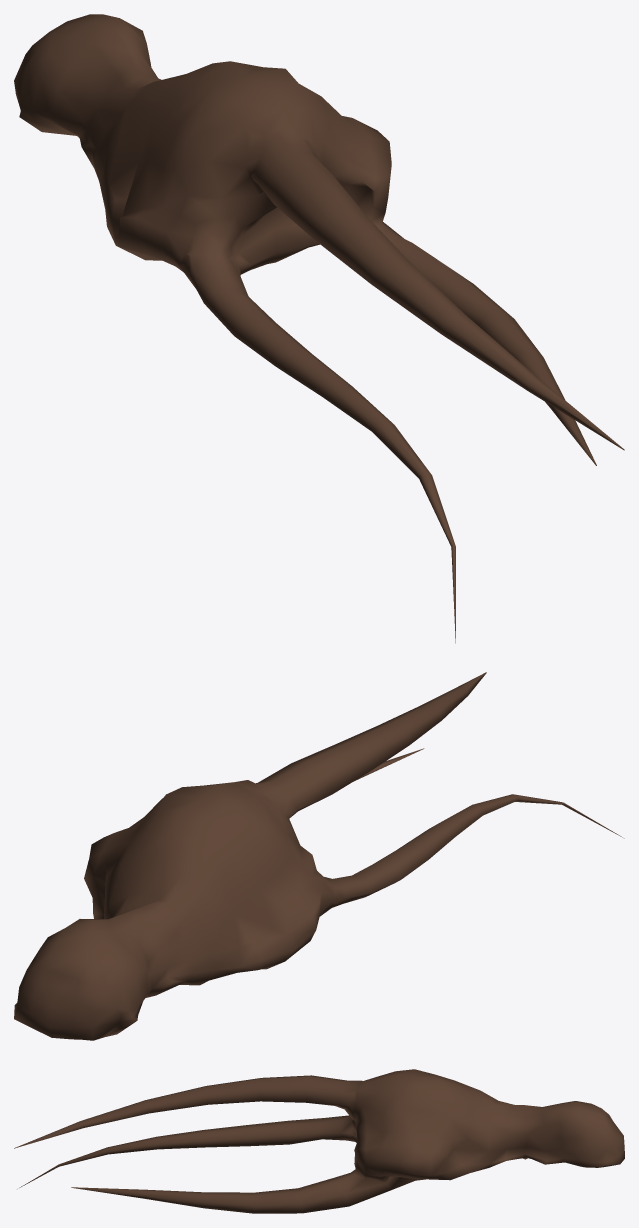
The model's file is PlayerShipToTexture.fbx.
3 views of the same model, one above another, from view 1: azimuth 30°, elevation 25°; view 2: azimuth 150°, elevation 25°; view 3: azimuth 270°, elevation 25° (orthographic). The views are drawn at different scales.
Visible parts, largest first — view 1: PlayerShip.001; view 2: PlayerShip.001; view 3: PlayerShip.001.
Boxes of the visible parts, bbox=[...] form: PlayerShip.001: bbox=[14, 14, 624, 643]; PlayerShip.001: bbox=[14, 672, 624, 1040]; PlayerShip.001: bbox=[14, 1069, 624, 1213].
Bounding box in the file's own units: 149 × 141 × 507.
